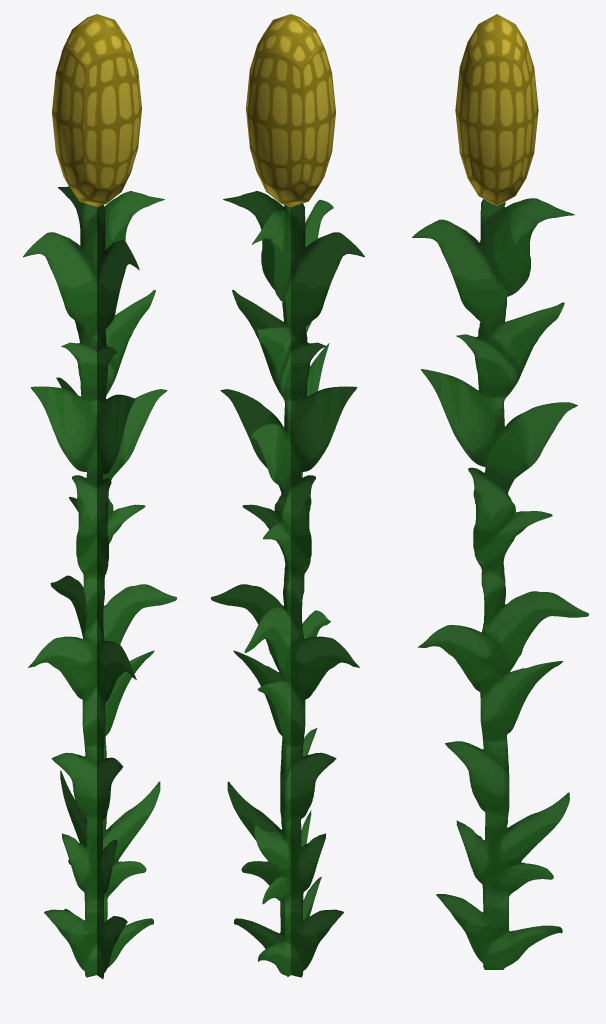
Rendered from MSH_Mazorca.FBX.
The picture shows the model from 3 angles, left to right: view 1: azimuth 30°, elevation 25°; view 2: azimuth 150°, elevation 25°; view 3: azimuth 270°, elevation 25°; orthographic projection.
Visible parts, largest first — view 1: Mazorca; view 2: Mazorca; view 3: Mazorca.
Part boxes in pixels (bbox=[...]): Mazorca: bbox=[23, 14, 176, 978]; Mazorca: bbox=[211, 14, 364, 977]; Mazorca: bbox=[412, 14, 588, 969].
Size of the model in its own units: 37.95 by 211 by 37.95.
Materials: 1 (1 with a texture image).
